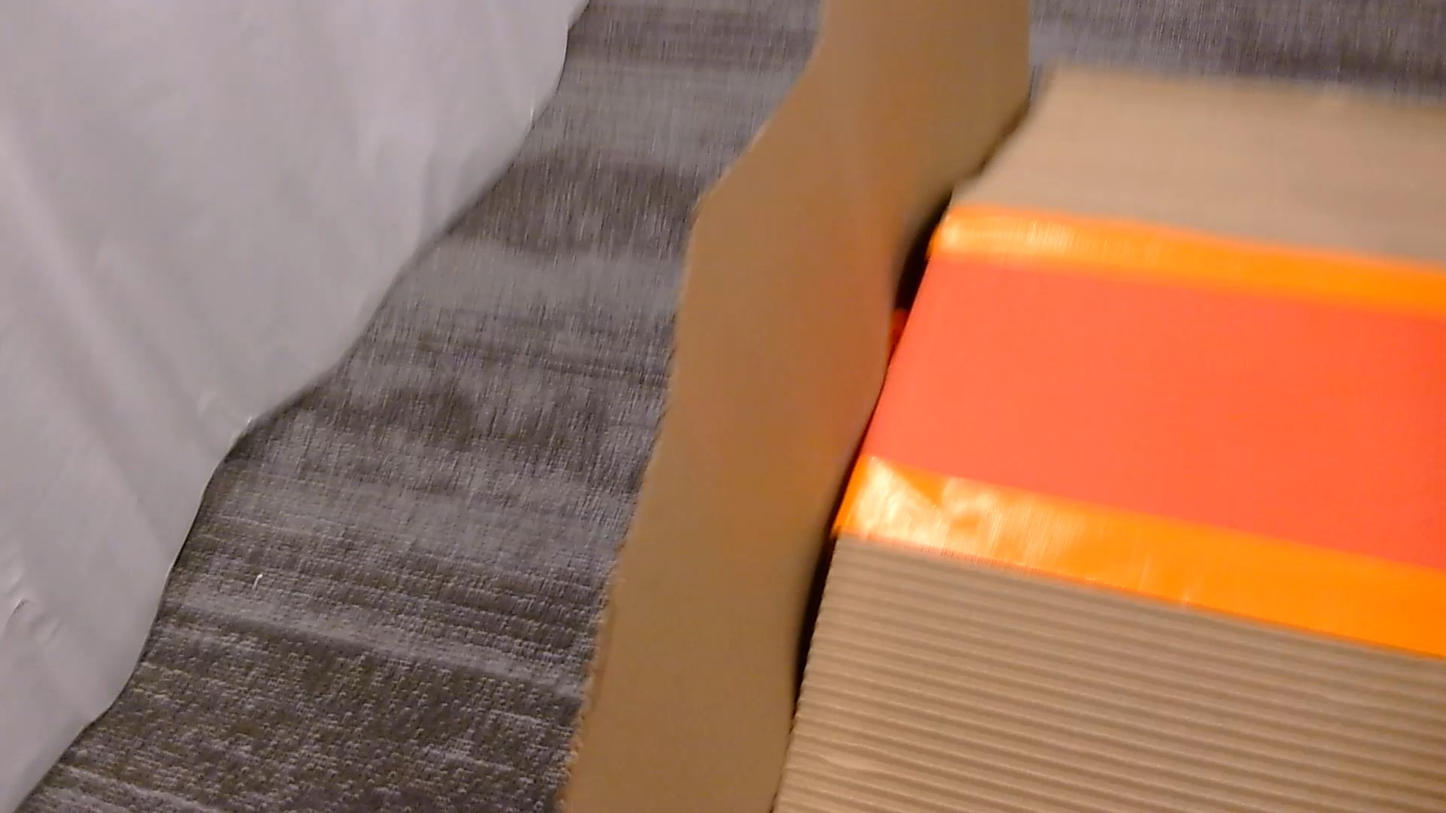Ramp: (562, 0, 1445, 812)
